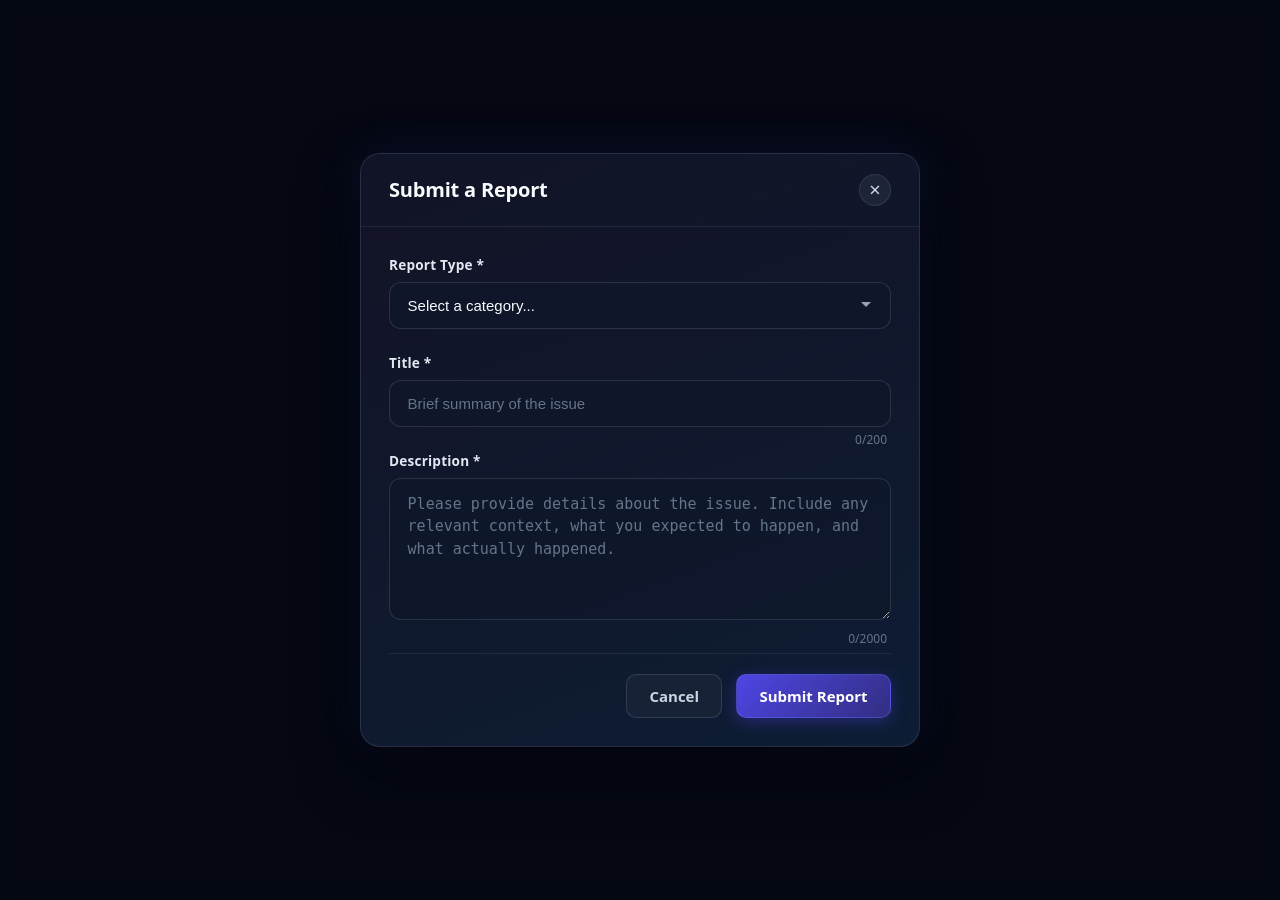
Scenario: ReportModal › Form Validation › shows error when description is too short
Select "Bug Report" in the dropdown labelled "Report Type *": (640, 306) [389,282,891,329]
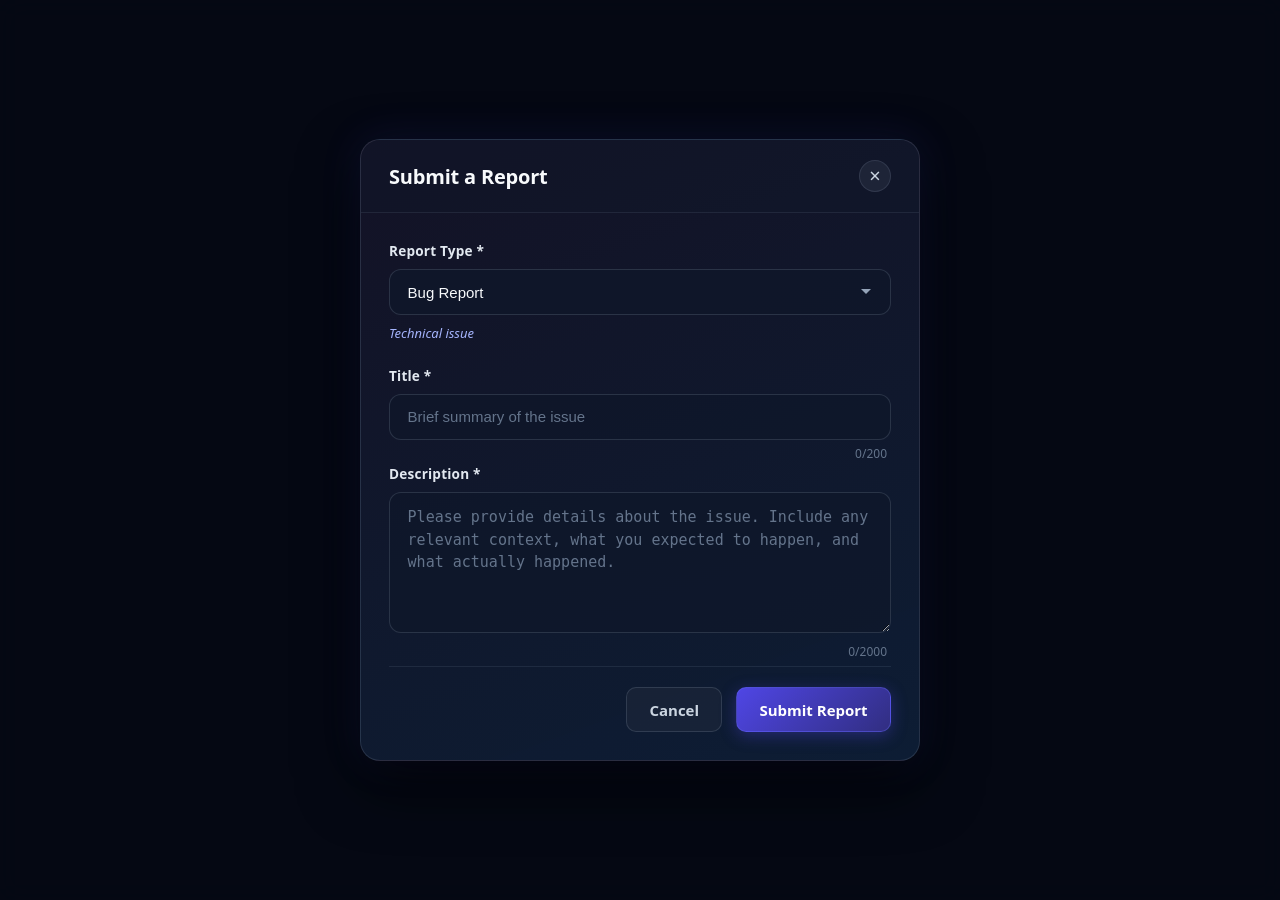
In the field labelled "Title *": (640, 417) [389,394,891,440], type "Valid Title"
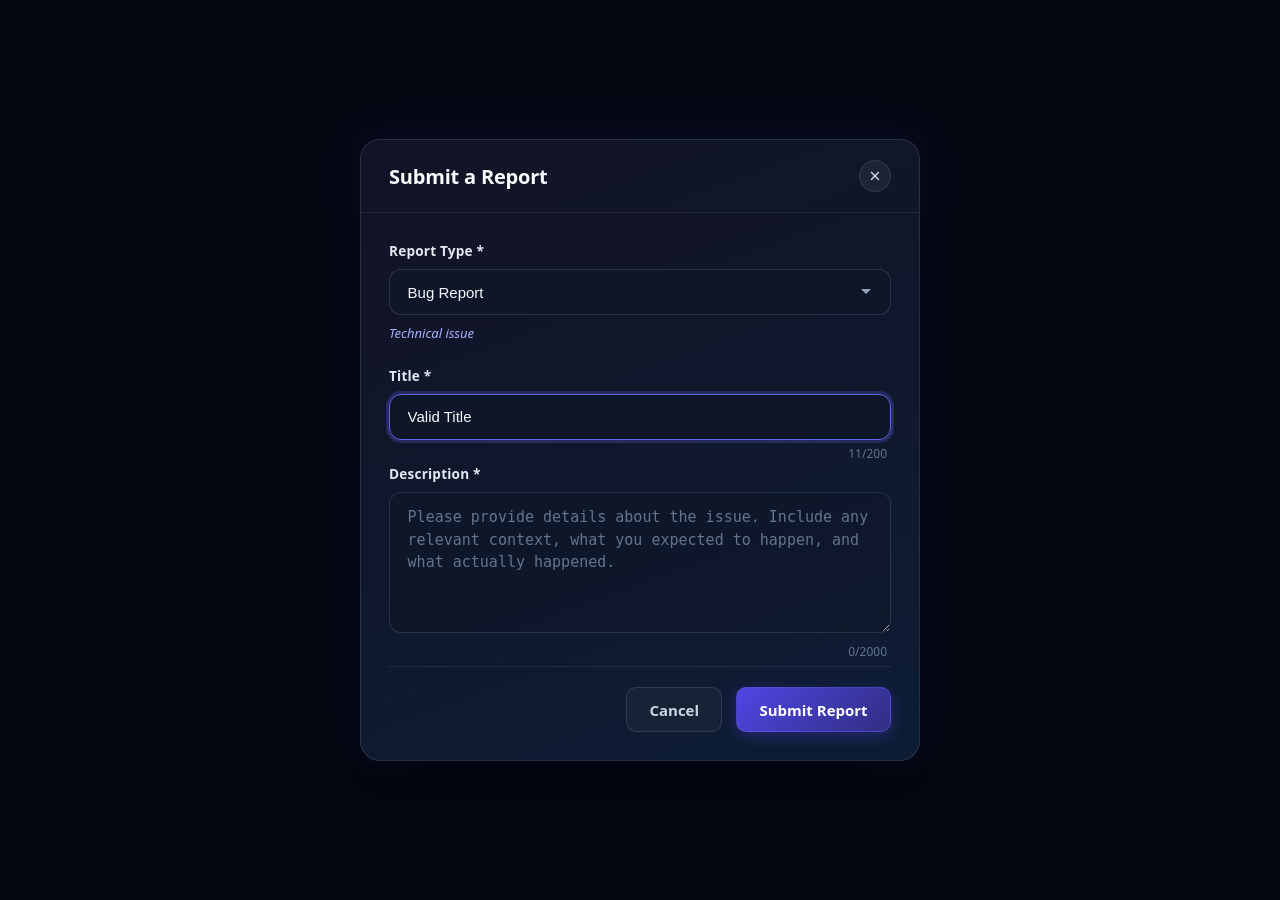
In the text box labelled "Description *": (640, 563) [389,492,891,634], type "Short"
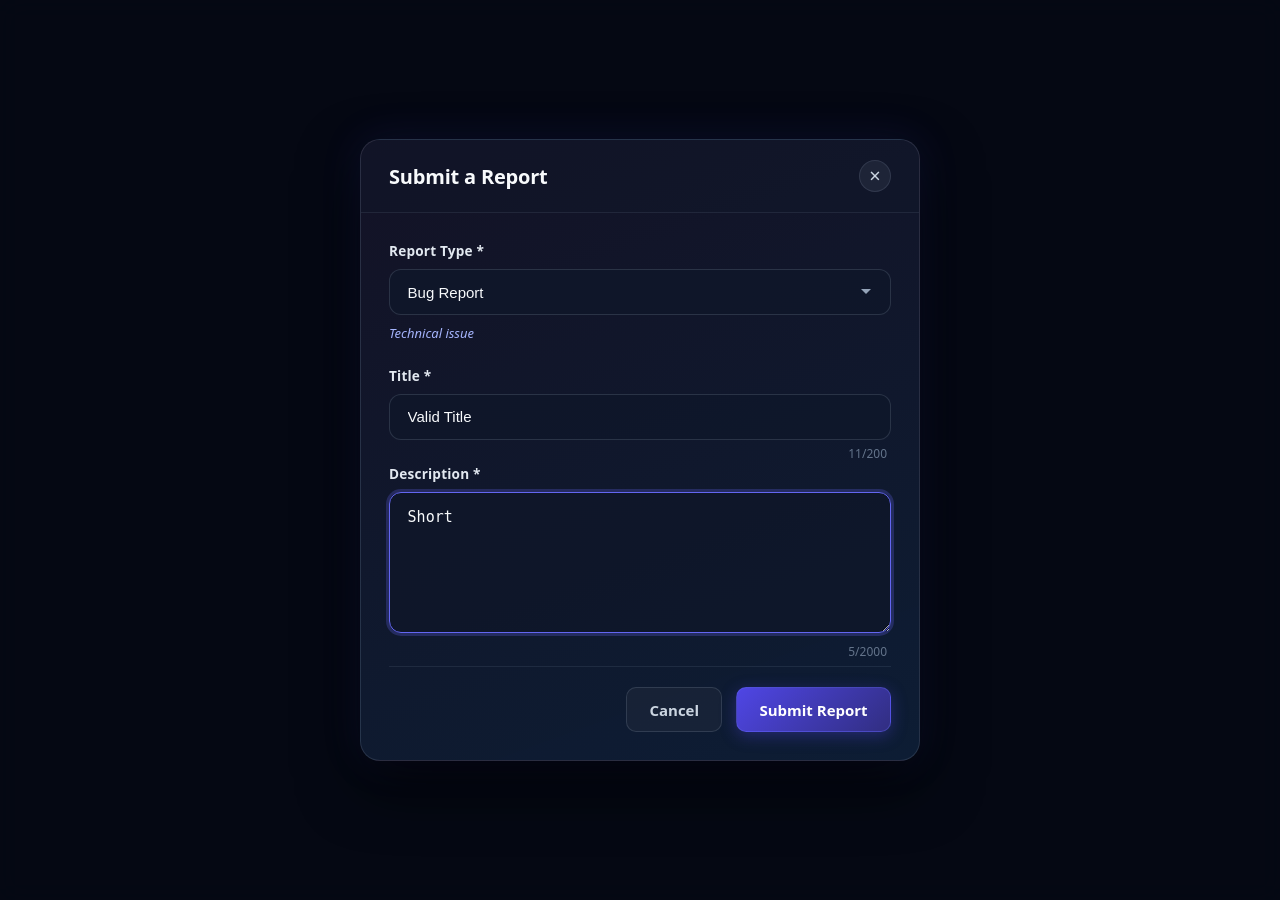
Click the button "Submit Report": (814, 710) [736,687,891,732]
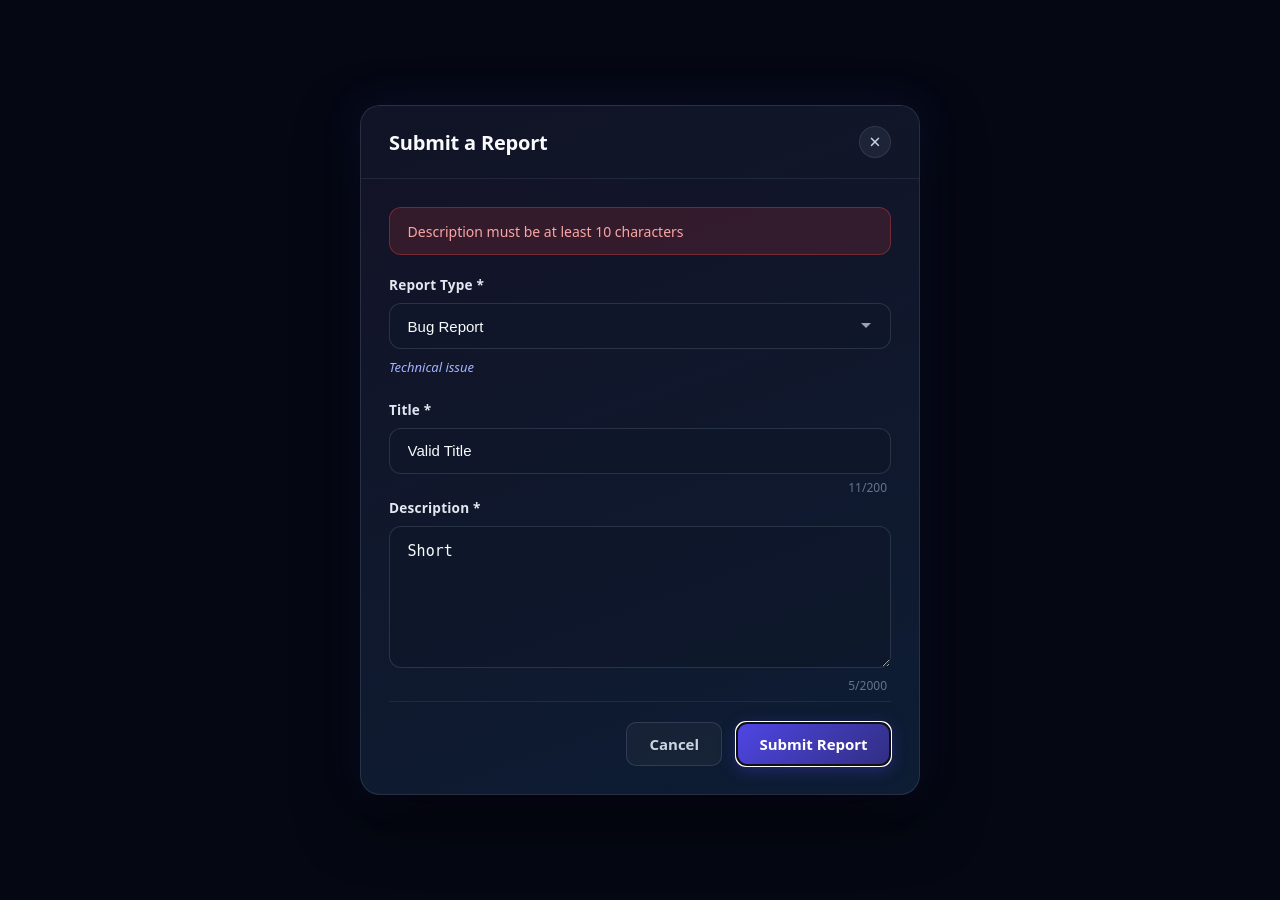
Now the text "Description must be at least 10 characters" is shown, box [389,207,891,255]
